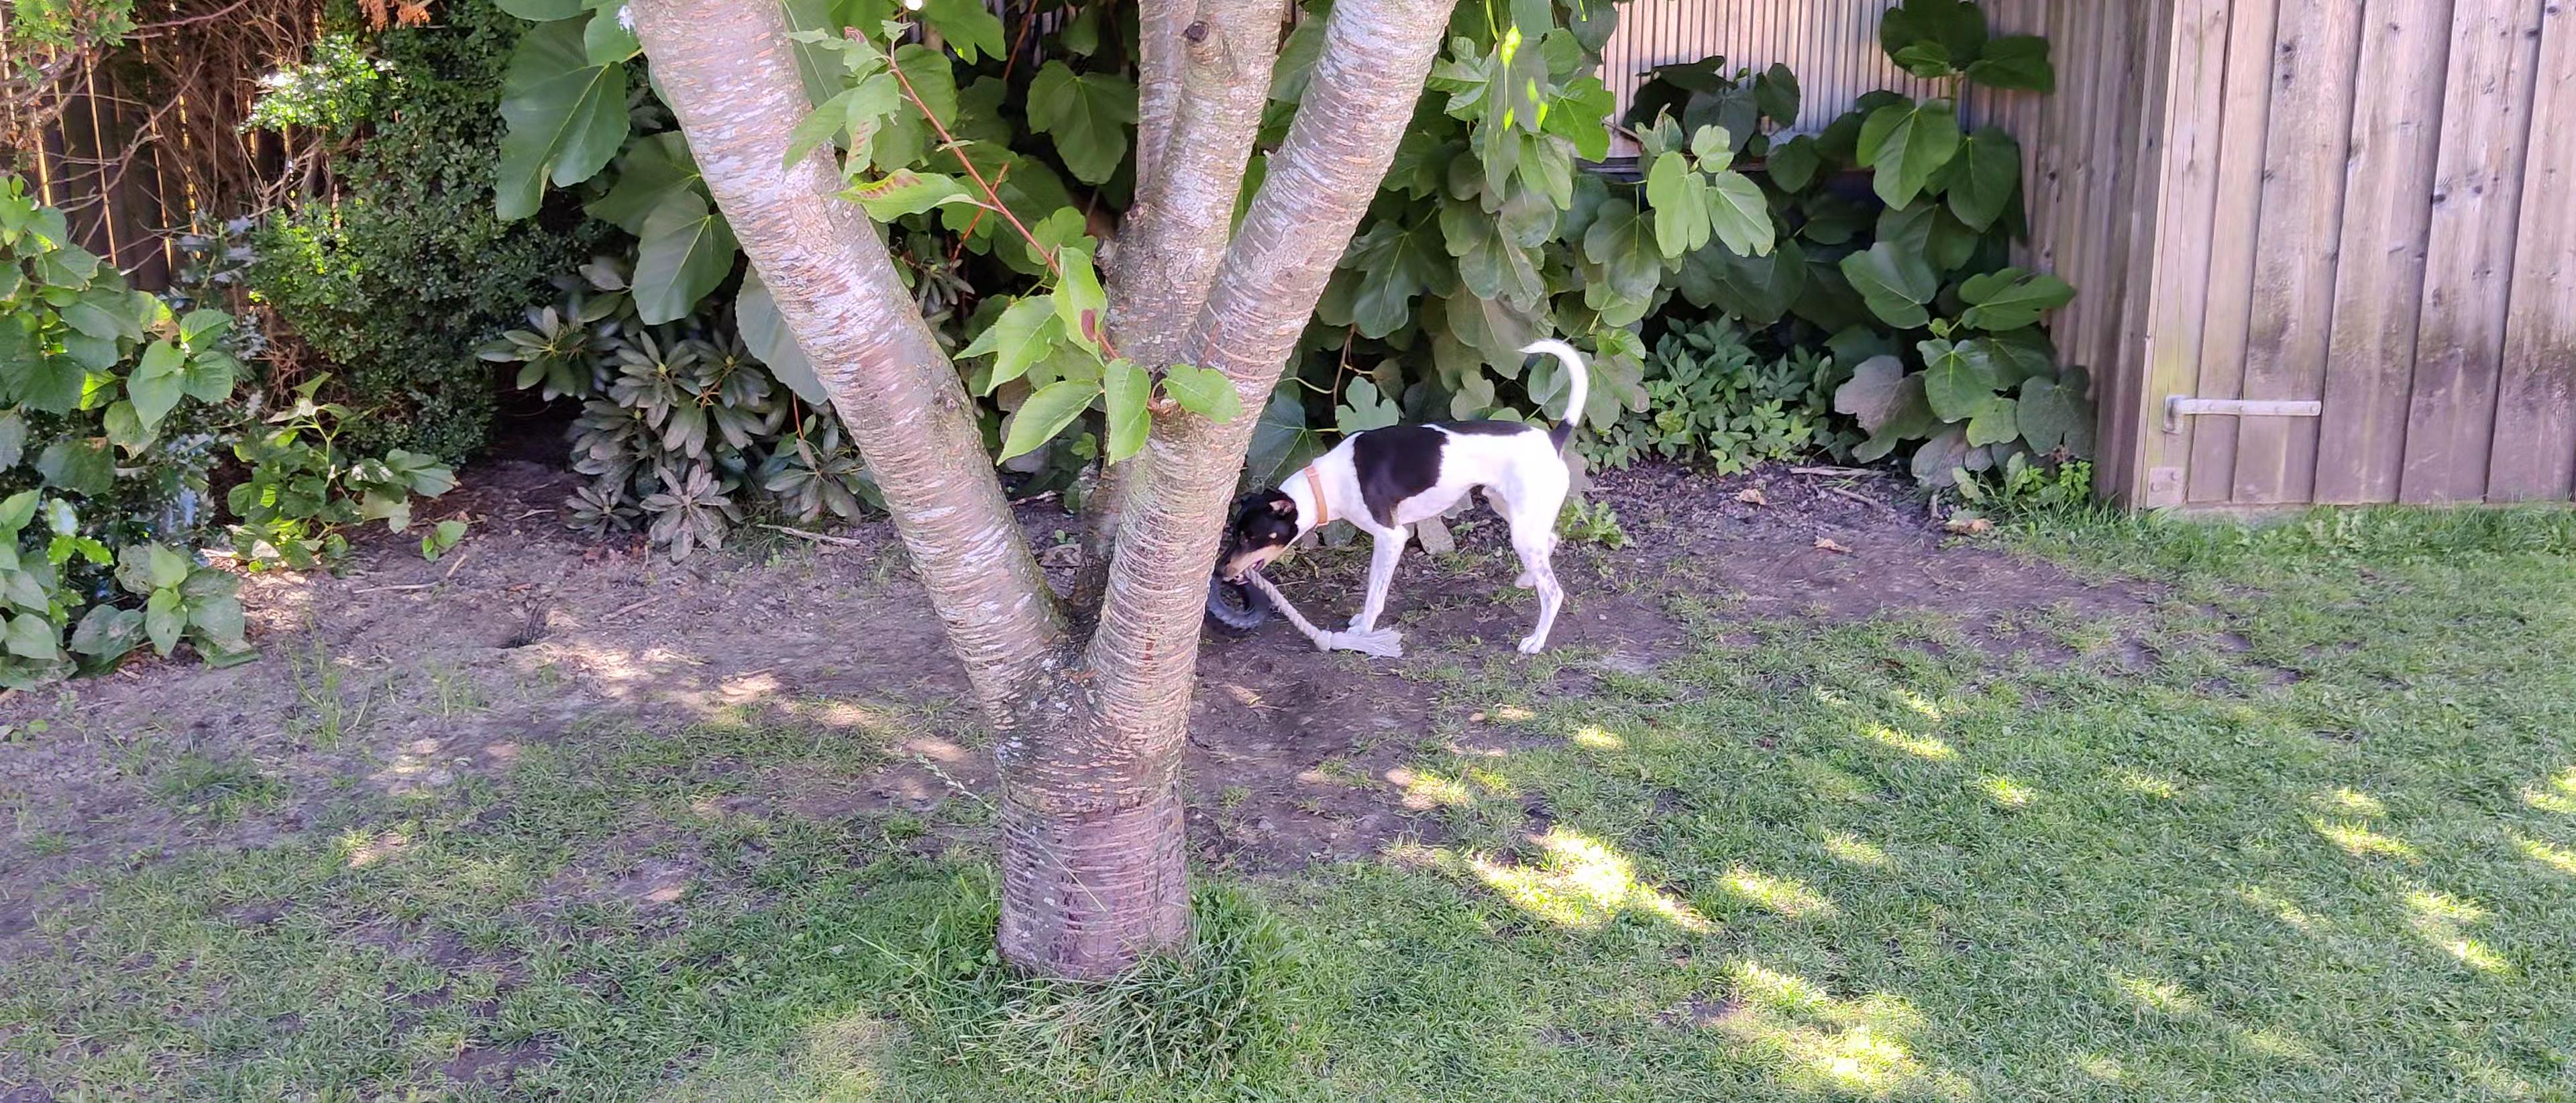Dog: (1214, 335, 1590, 654)
